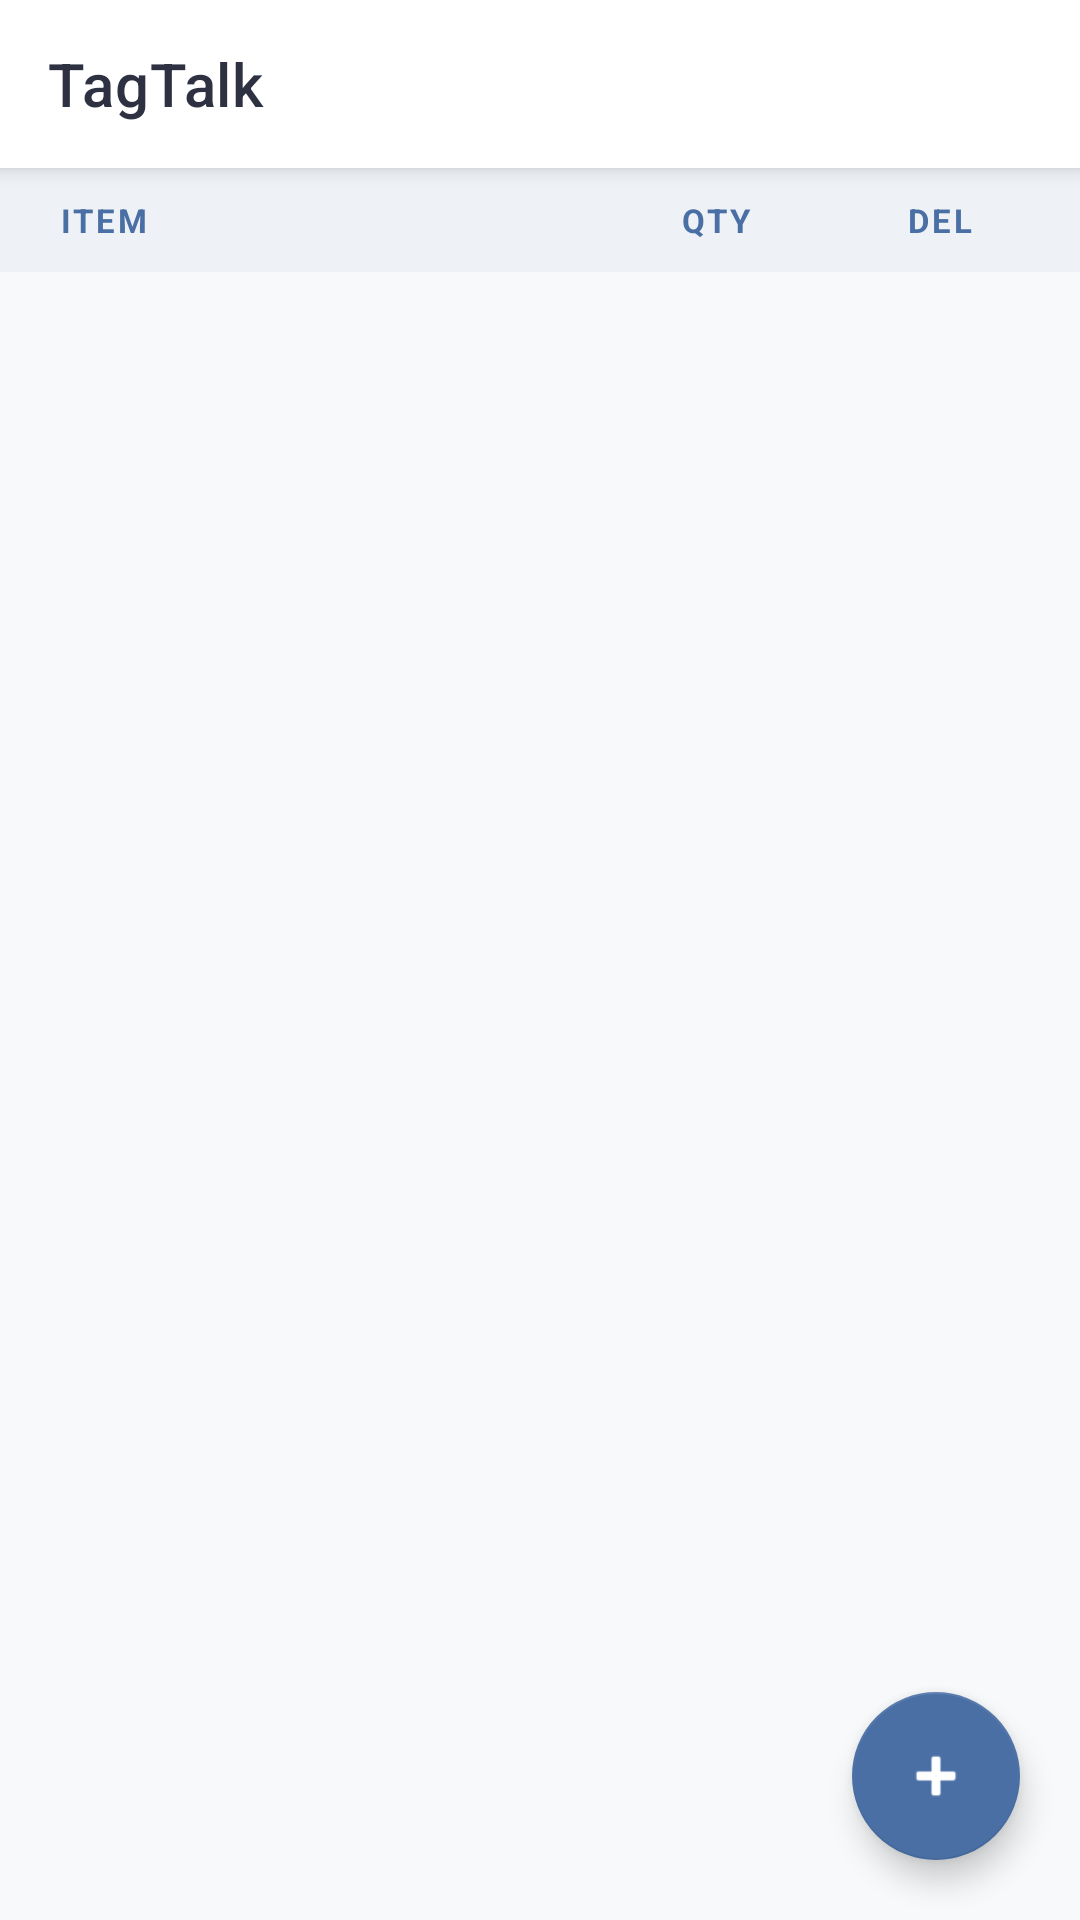

Icons on this 1080px×1920px Android screen, each with its box as [x1,y1,x2,y2]:
Add new item: [852,1692,1020,1860]
